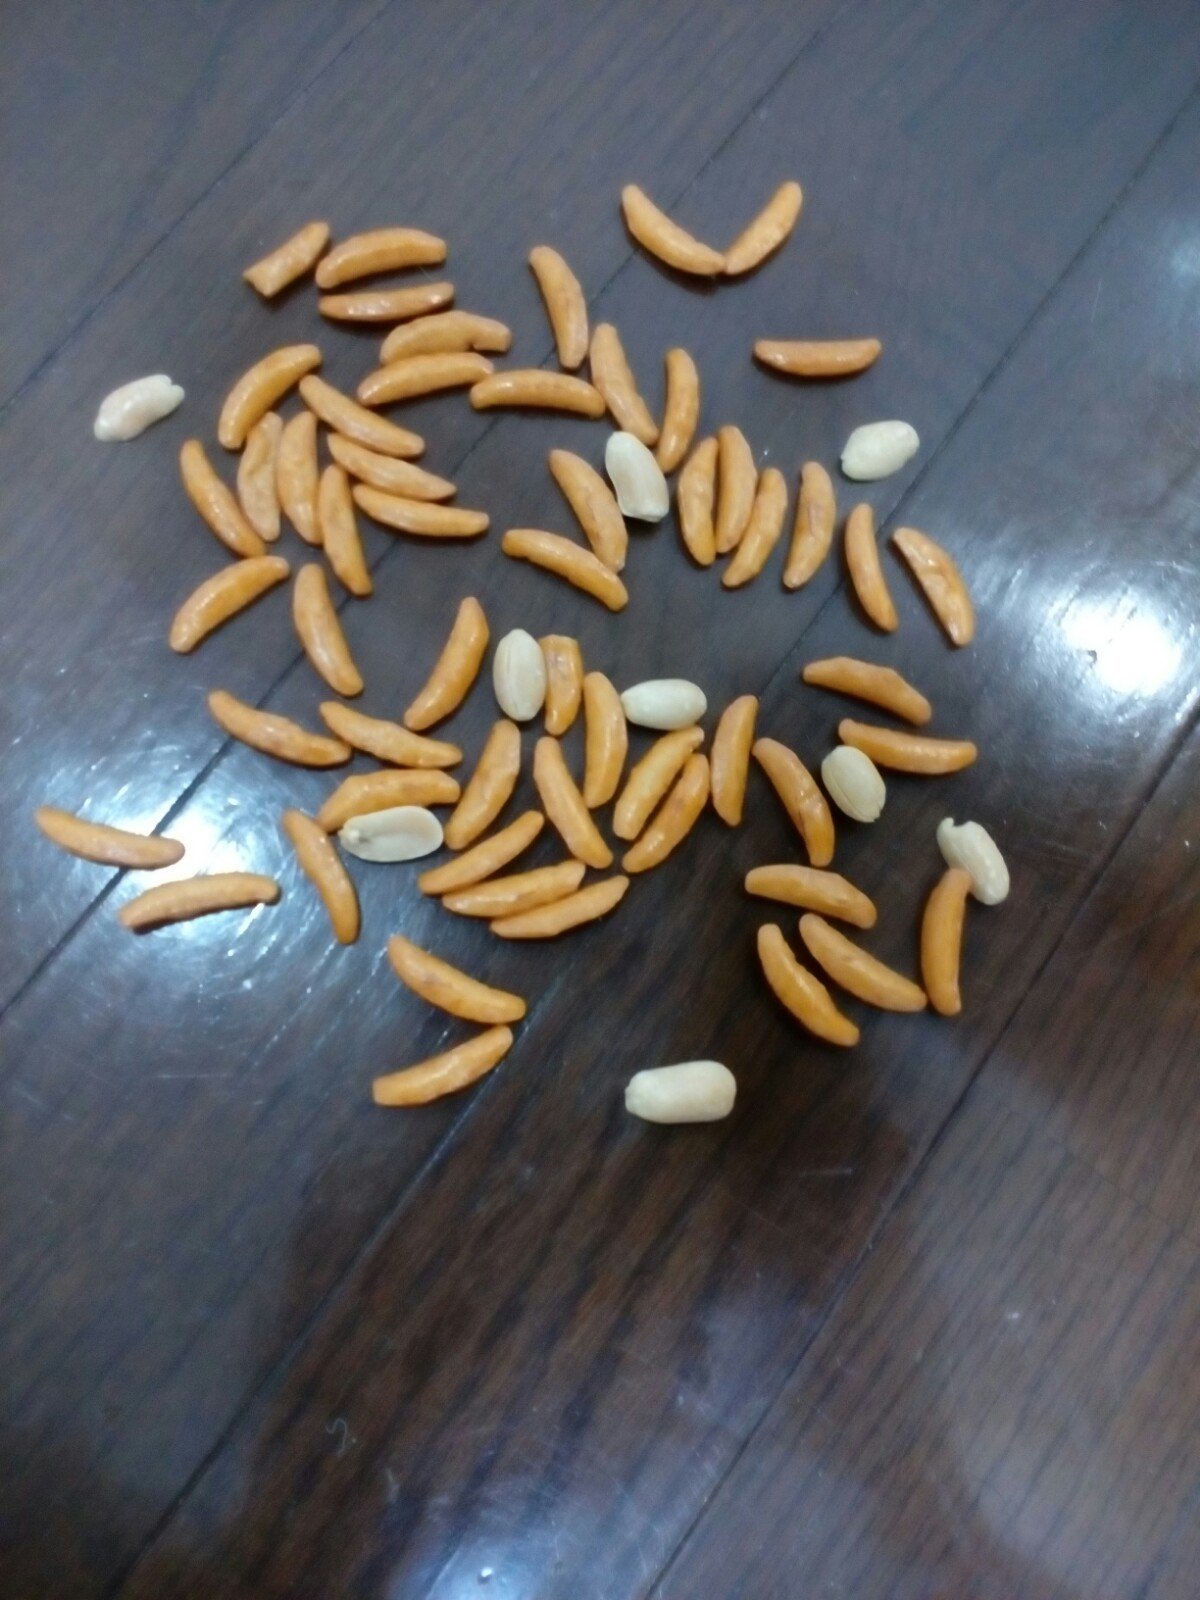peanut: (333, 791, 460, 878), (592, 423, 688, 533), (618, 1048, 741, 1131), (79, 363, 190, 446), (811, 733, 899, 831), (932, 808, 1016, 910), (490, 614, 562, 727), (837, 412, 939, 489), (611, 671, 716, 742)
